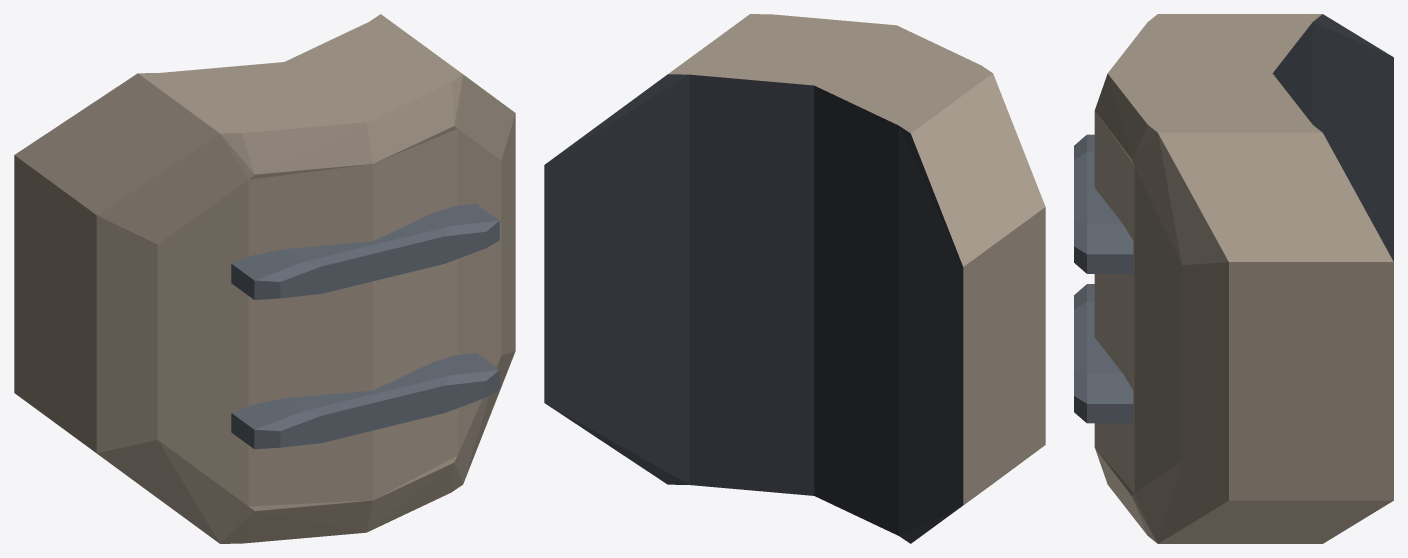
Rendered from knee_heavy.glb.
3 views of the same model, side by side, from view 1: azimuth 30°, elevation 25°; view 2: azimuth 150°, elevation 25°; view 3: azimuth 270°, elevation 25° (orthographic).
Parts seen in each view (by area): view 1: knee_heavy; view 2: knee_heavy; view 3: knee_heavy.
Part boxes in pixels (x1,y1,x2,y2): knee_heavy: (14,14,515,543); knee_heavy: (544,14,1045,543); knee_heavy: (1074,14,1393,543).
Bounding box in the file's own units: 0.94 × 0.88 × 0.6202.
